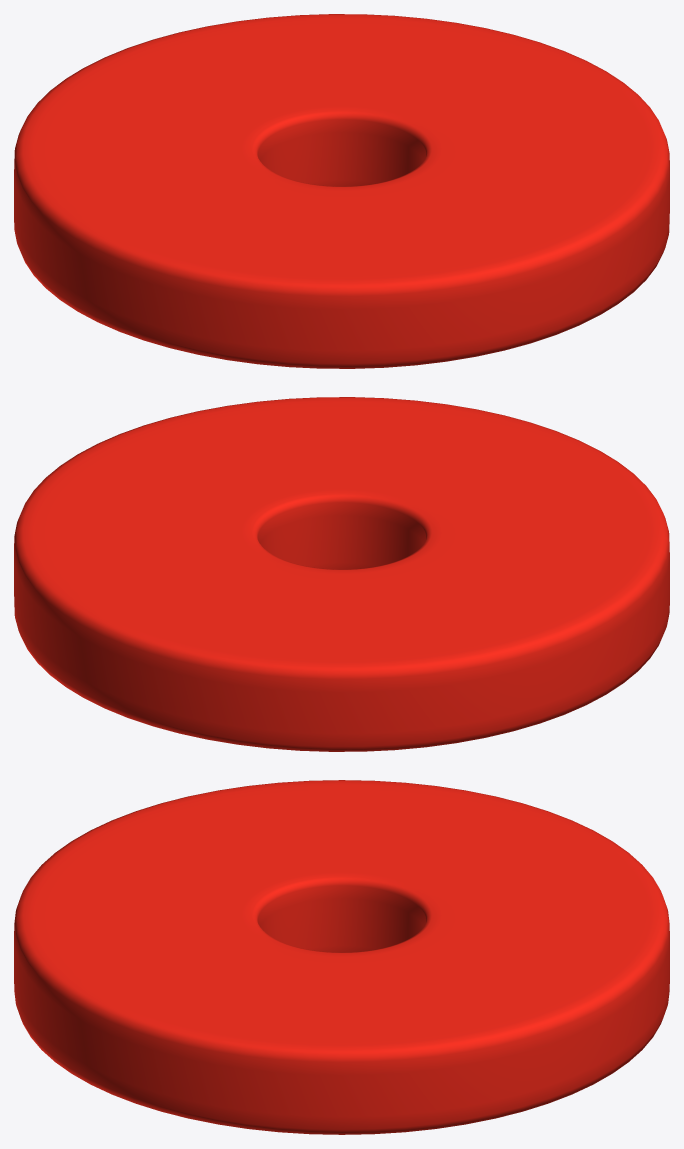
The model's file is toy_circle.fbx.
3 views of the same model, one above another, from view 1: azimuth 30°, elevation 25°; view 2: azimuth 150°, elevation 25°; view 3: azimuth 270°, elevation 25° (orthographic).
Parts seen in each view (by area): view 1: Circle.002; view 2: Circle.002; view 3: Circle.002.
Part boxes in pixels (x1=…): Circle.002: x1=14, y1=14, x2=669, y2=368; Circle.002: x1=14, y1=397, x2=669, y2=751; Circle.002: x1=14, y1=780, x2=669, y2=1134.
Size of the model in its own units: 4.59 by 0.6584 by 4.59.
